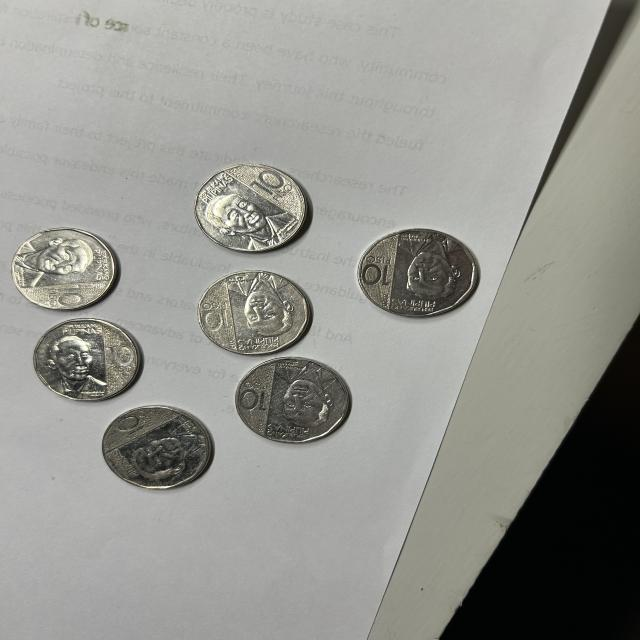10_New_Front: (243, 171, 294, 207), (36, 286, 90, 314), (104, 340, 140, 379), (364, 249, 397, 290), (235, 378, 272, 414), (203, 302, 239, 332), (113, 412, 157, 436)
